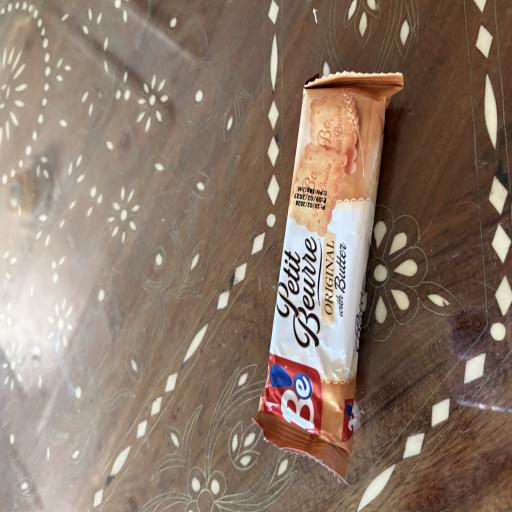petit-beurre: (250, 53, 445, 503)
